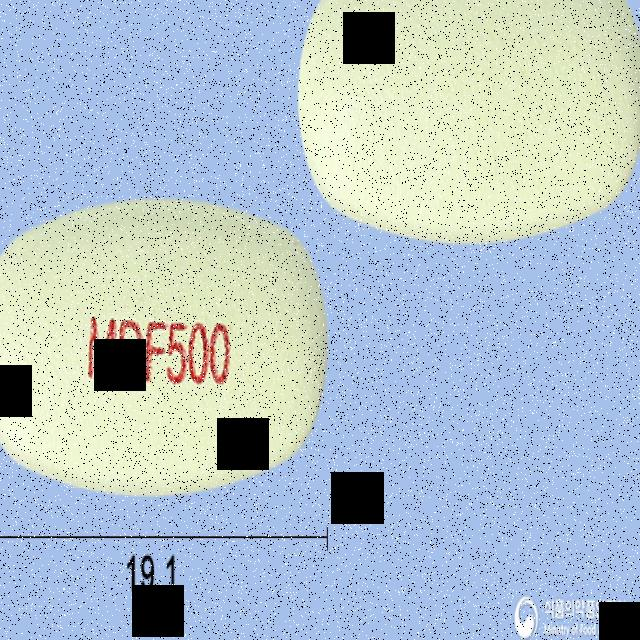Clarid - 500mg: (0, 186, 329, 504)
